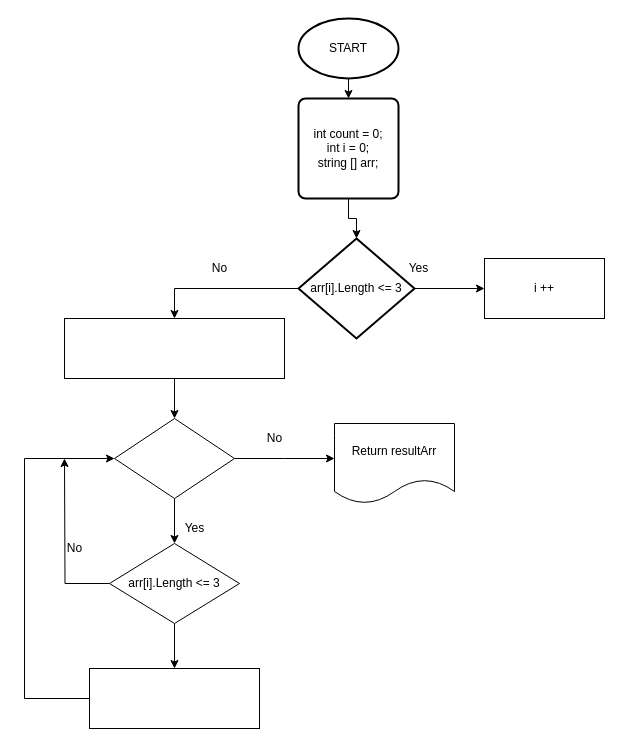
This 622x746 diagram has some shape labels left out. Here are the shapes that lost their labels. From the top down, the box of each, then its label:
(64, 318, 284, 378): int index = 0; int i = 0; string [] resultArr = new string [count];
(114, 418, 234, 498): i < arr.Length
(88, 668, 260, 728): resultArr[index] = arr[i]; index++;
